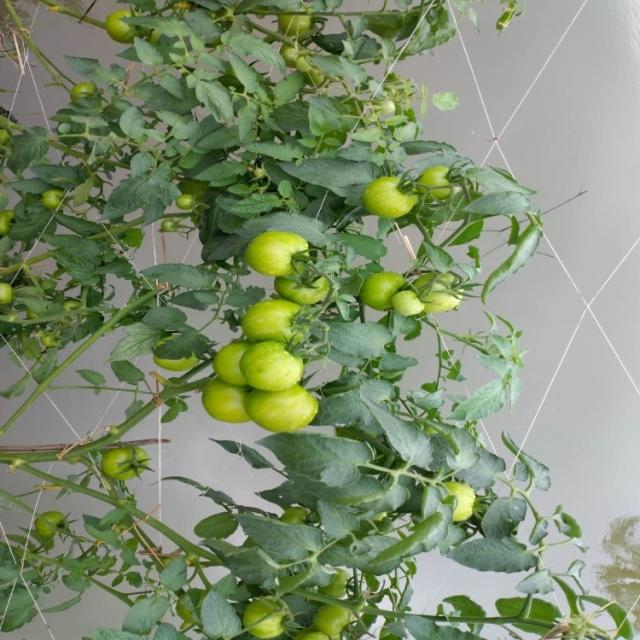tomato: (239, 370, 332, 436), (354, 174, 430, 234), (236, 333, 313, 390), (238, 294, 318, 344), (242, 229, 321, 277), (418, 261, 470, 327), (269, 263, 339, 311), (203, 370, 260, 423), (445, 471, 505, 520), (25, 495, 80, 545), (363, 268, 413, 322), (102, 444, 162, 484), (242, 585, 288, 636), (380, 285, 428, 329), (308, 599, 357, 640), (211, 334, 261, 373), (423, 159, 464, 203), (150, 206, 189, 244), (283, 12, 322, 40), (105, 10, 141, 40), (35, 186, 68, 217), (68, 72, 98, 104), (170, 191, 198, 212), (1, 203, 15, 242), (3, 278, 19, 311)
